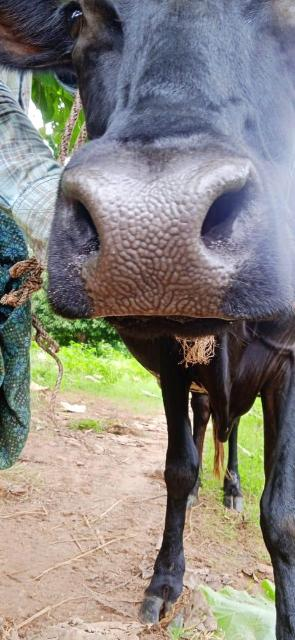Muzzle: (54, 160, 260, 312)
